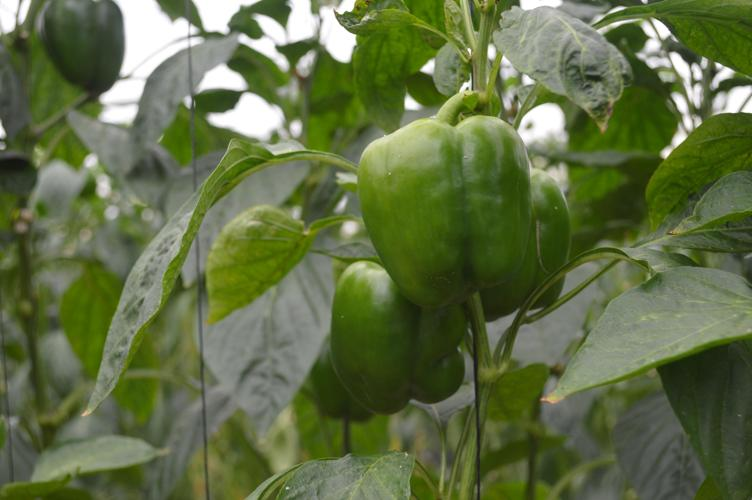BellPepper: (353, 115, 529, 293), (329, 262, 463, 410), (476, 169, 570, 308), (38, 6, 130, 88)
